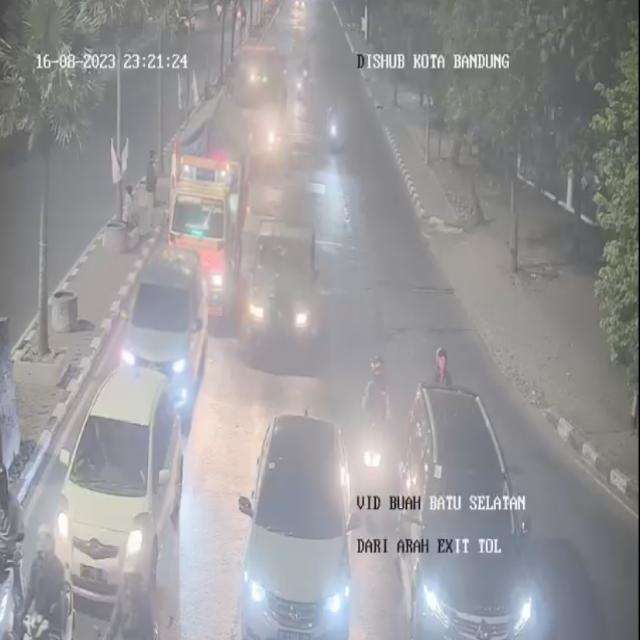cars: (398, 376, 537, 640), (42, 358, 184, 598), (240, 402, 353, 640), (120, 242, 208, 423)
motorcycle: (0, 458, 25, 640), (32, 518, 68, 638), (110, 546, 156, 638), (424, 344, 454, 390), (327, 98, 348, 162), (290, 53, 310, 104)
truck: (176, 100, 258, 316), (247, 218, 319, 356), (235, 44, 287, 168)
